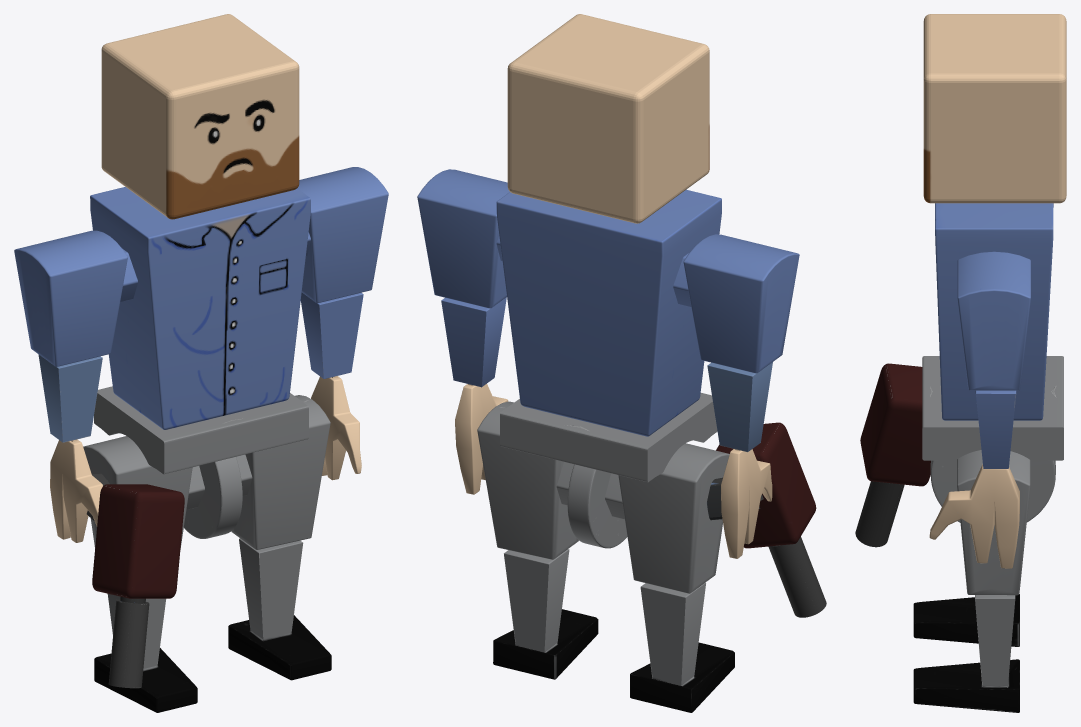
File: maincharacter.glb
The picture shows the model from 3 angles, left to right: view 1: azimuth 30°, elevation 25°; view 2: azimuth 150°, elevation 25°; view 3: azimuth 270°, elevation 25°; orthographic projection. The views are drawn at different scales.
Visible parts, largest first — view 1: Torso, Cube.004, tetik, Hip, RightArm, leftarm, Leftleg2, LeftLeg1, RightLeg2, RightForeArm, Leftforearm, RightHand (+3 smaller); view 2: Torso, Cube.004, Hip, RightArm, RightLeg1, leftarm, LeftLeg1, Leftleg2, RightLeg2, tetik, Leftforearm, RightForeArm (+3 smaller); view 3: Cube.004, Torso, leftarm, Hip, tetik, Leftleg2, LeftHand.001, LeftLeg1, RightLeg2, Leftforearm.
Part boxes in pixels (<box>): Torso: <box>90,187,310,429</box>; Cube.004: <box>101,14,299,219</box>; tetik: <box>86,473,184,688</box>; Hip: <box>94,386,308,538</box>; RightArm: <box>14,230,127,366</box>; leftarm: <box>297,167,388,303</box>; Leftleg2: <box>228,538,331,680</box>; LeftLeg1: <box>231,395,330,549</box>; RightLeg2: <box>94,593,197,712</box>; RightForeArm: <box>38,354,102,442</box>; Leftforearm: <box>300,292,363,378</box>; RightHand: <box>50,439,102,542</box>; Torso: <box>496,189,721,436</box>; Cube.004: <box>507,14,709,223</box>; Hip: <box>500,393,717,548</box>; RightArm: <box>683,234,799,373</box>; RightLeg1: <box>618,443,729,593</box>; leftarm: <box>417,169,509,308</box>; LeftLeg1: <box>477,401,578,559</box>; Leftleg2: <box>493,549,598,679</box>; RightLeg2: <box>630,582,734,712</box>; tetik: <box>707,422,826,617</box>; Leftforearm: <box>441,297,506,387</box>; RightForeArm: <box>707,362,772,452</box>; Cube.004: <box>923,14,1066,203</box>; Torso: <box>935,203,1053,420</box>; leftarm: <box>957,251,1030,390</box>; Hip: <box>922,356,1063,522</box>; tetik: <box>855,363,930,547</box>; Leftleg2: <box>913,595,1019,712</box>; LeftHand.001: <box>929,464,1019,568</box>; LeftLeg1: <box>957,450,1030,595</box>; RightLeg2: <box>913,594,1019,646</box>; Leftforearm: <box>975,390,1016,468</box>.
Size of the model in its own units: 0.2152 by 0.3726 by 0.115.
Materials: 15 (15 with a texture image).
